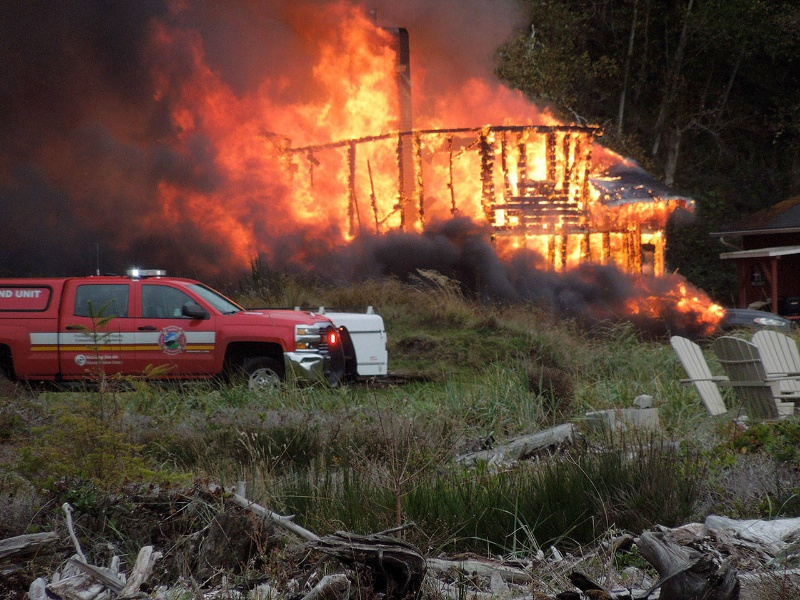fire: (260, 98, 656, 282), (656, 280, 741, 332)
